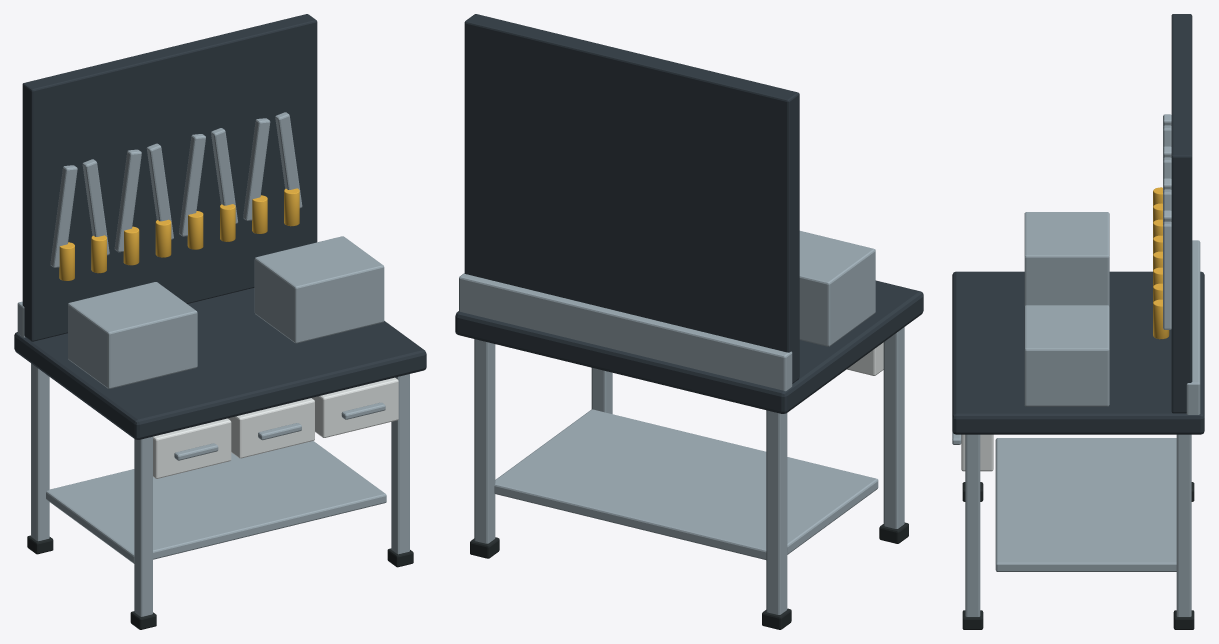
The model's file is maintenance-bench.glb.
3 renders of one model, left to right at view 1: azimuth 30°, elevation 25°; view 2: azimuth 150°, elevation 25°; view 3: azimuth 270°, elevation 25°, orthographic. The views are drawn at different scales.
Visible parts, largest first — view 1: Tool board, Worktop, Equipment shelf, Closed equipment case.001, Closed equipment case, Tubular leg, Cabinet drawer.002, Cabinet drawer.001, Tubular leg.001, Cabinet drawer, Tubular leg.002, Tool silhouette.006 (+15 smaller); view 2: Tool board, Equipment shelf, Worktop, Splashback, Closed equipment case, Tubular leg.001, Tubular leg.003, Tubular leg, Tubular leg.002, Cabinet drawer; view 3: Worktop, Equipment shelf, Closed equipment case.001, Tool board, Closed equipment case, Tubular leg.002, Tubular leg.003, Splashback, Tool silhouette.007, Cabinet drawer.002, Grip.007.
Part boxes in pixels (x1,y1,x2,y2): Tool board: (22,14,317,341); Worktop: (14,287,426,439); Equipment shelf: (46,441,386,563); Closed equipment case.001: (254,236,384,343); Closed equipment case: (68,282,197,388); Tubular leg: (134,436,152,616); Cabinet drawer.002: (312,377,398,437); Cabinet drawer.001: (228,398,314,458); Tubular leg.001: (31,363,49,541); Cabinet drawer: (153,418,231,478); Tubular leg.002: (391,374,409,554); Tool silhouette.006: (243,118,270,220); Tool board: (464,14,799,383); Equipment shelf: (494,409,878,559); Worktop: (455,280,923,413); Splashback: (459,273,792,391); Closed equipment case: (799,231,875,346); Tubular leg.001: (766,410,787,614); Tubular leg.003: (474,339,495,543); Tubular leg: (883,327,904,528); Tubular leg.002: (591,368,612,413); Cabinet drawer: (847,342,883,375); Worktop: (952,271,1204,434); Equipment shelf: (995,438,1176,571); Closed equipment case.001: (1024,305,1109,406); Tool board: (1171,14,1192,413); Closed equipment case: (1024,212,1109,306); Tubular leg.002: (965,434,980,616); Tubular leg.003: (1176,434,1191,616); Splashback: (1186,240,1200,414); Tool silhouette.007: (1163,221,1171,329); Cabinet drawer.002: (961,434,993,471); Grip.007: (1153,299,1169,339).
Bounding box in the file's own units: 1.5 × 2.29 × 1.1.
